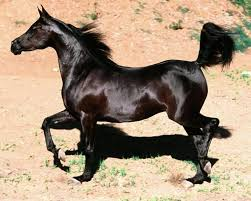horse: (11, 5, 232, 184)
